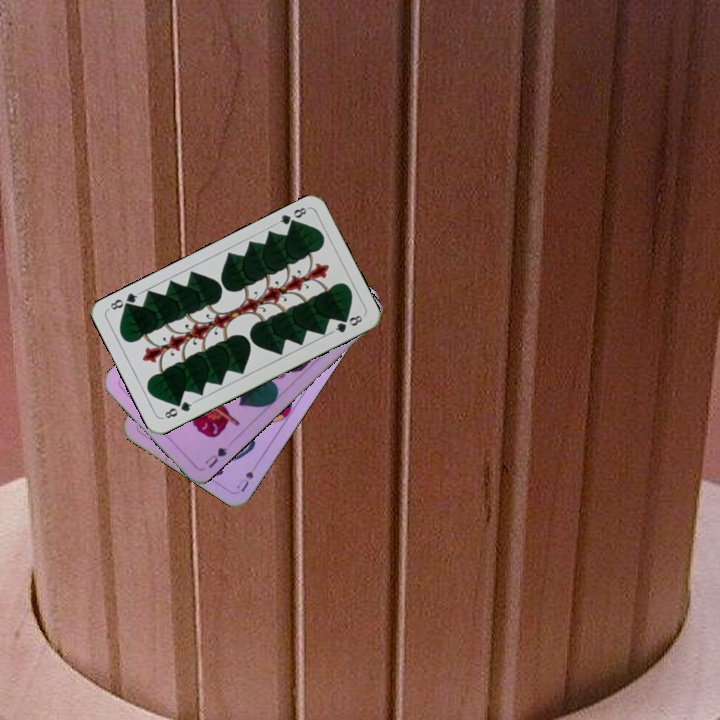G8: (272, 203, 311, 230), (158, 397, 197, 421)
GU: (200, 443, 230, 471)
SU: (232, 467, 256, 495)
